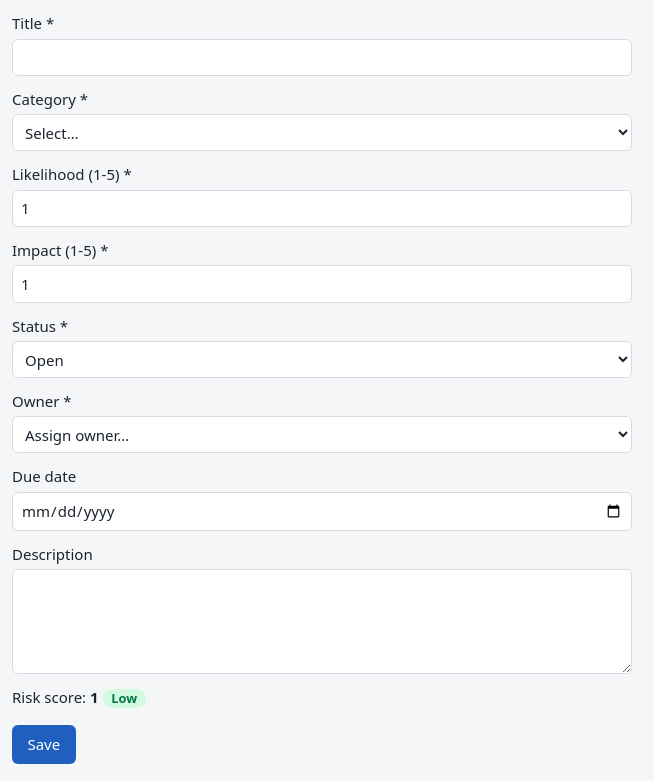
Scenario: RiskForm › updates the live score as values change
The image size is (654, 781).
Replace the text in the field labelled "Impact (1-5) *" with "5": (322, 284) 12,265 -> 632,303
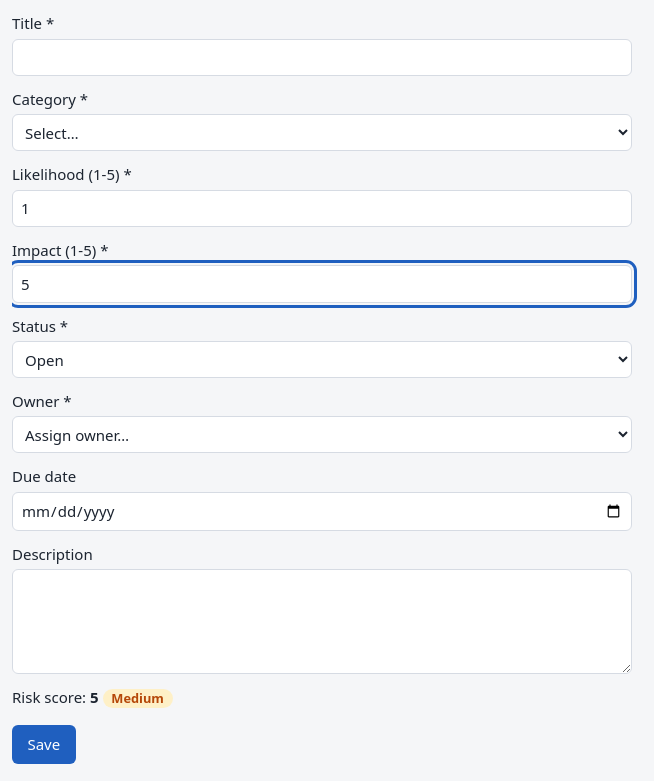
Result: the message shows "Risk score: 5" at 12,687 -> 173,708
